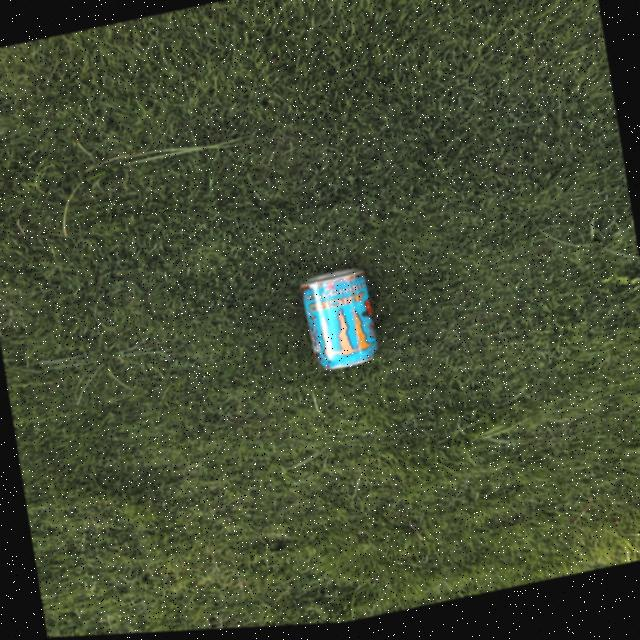Monster Mango Loco: (294, 268, 394, 382)
